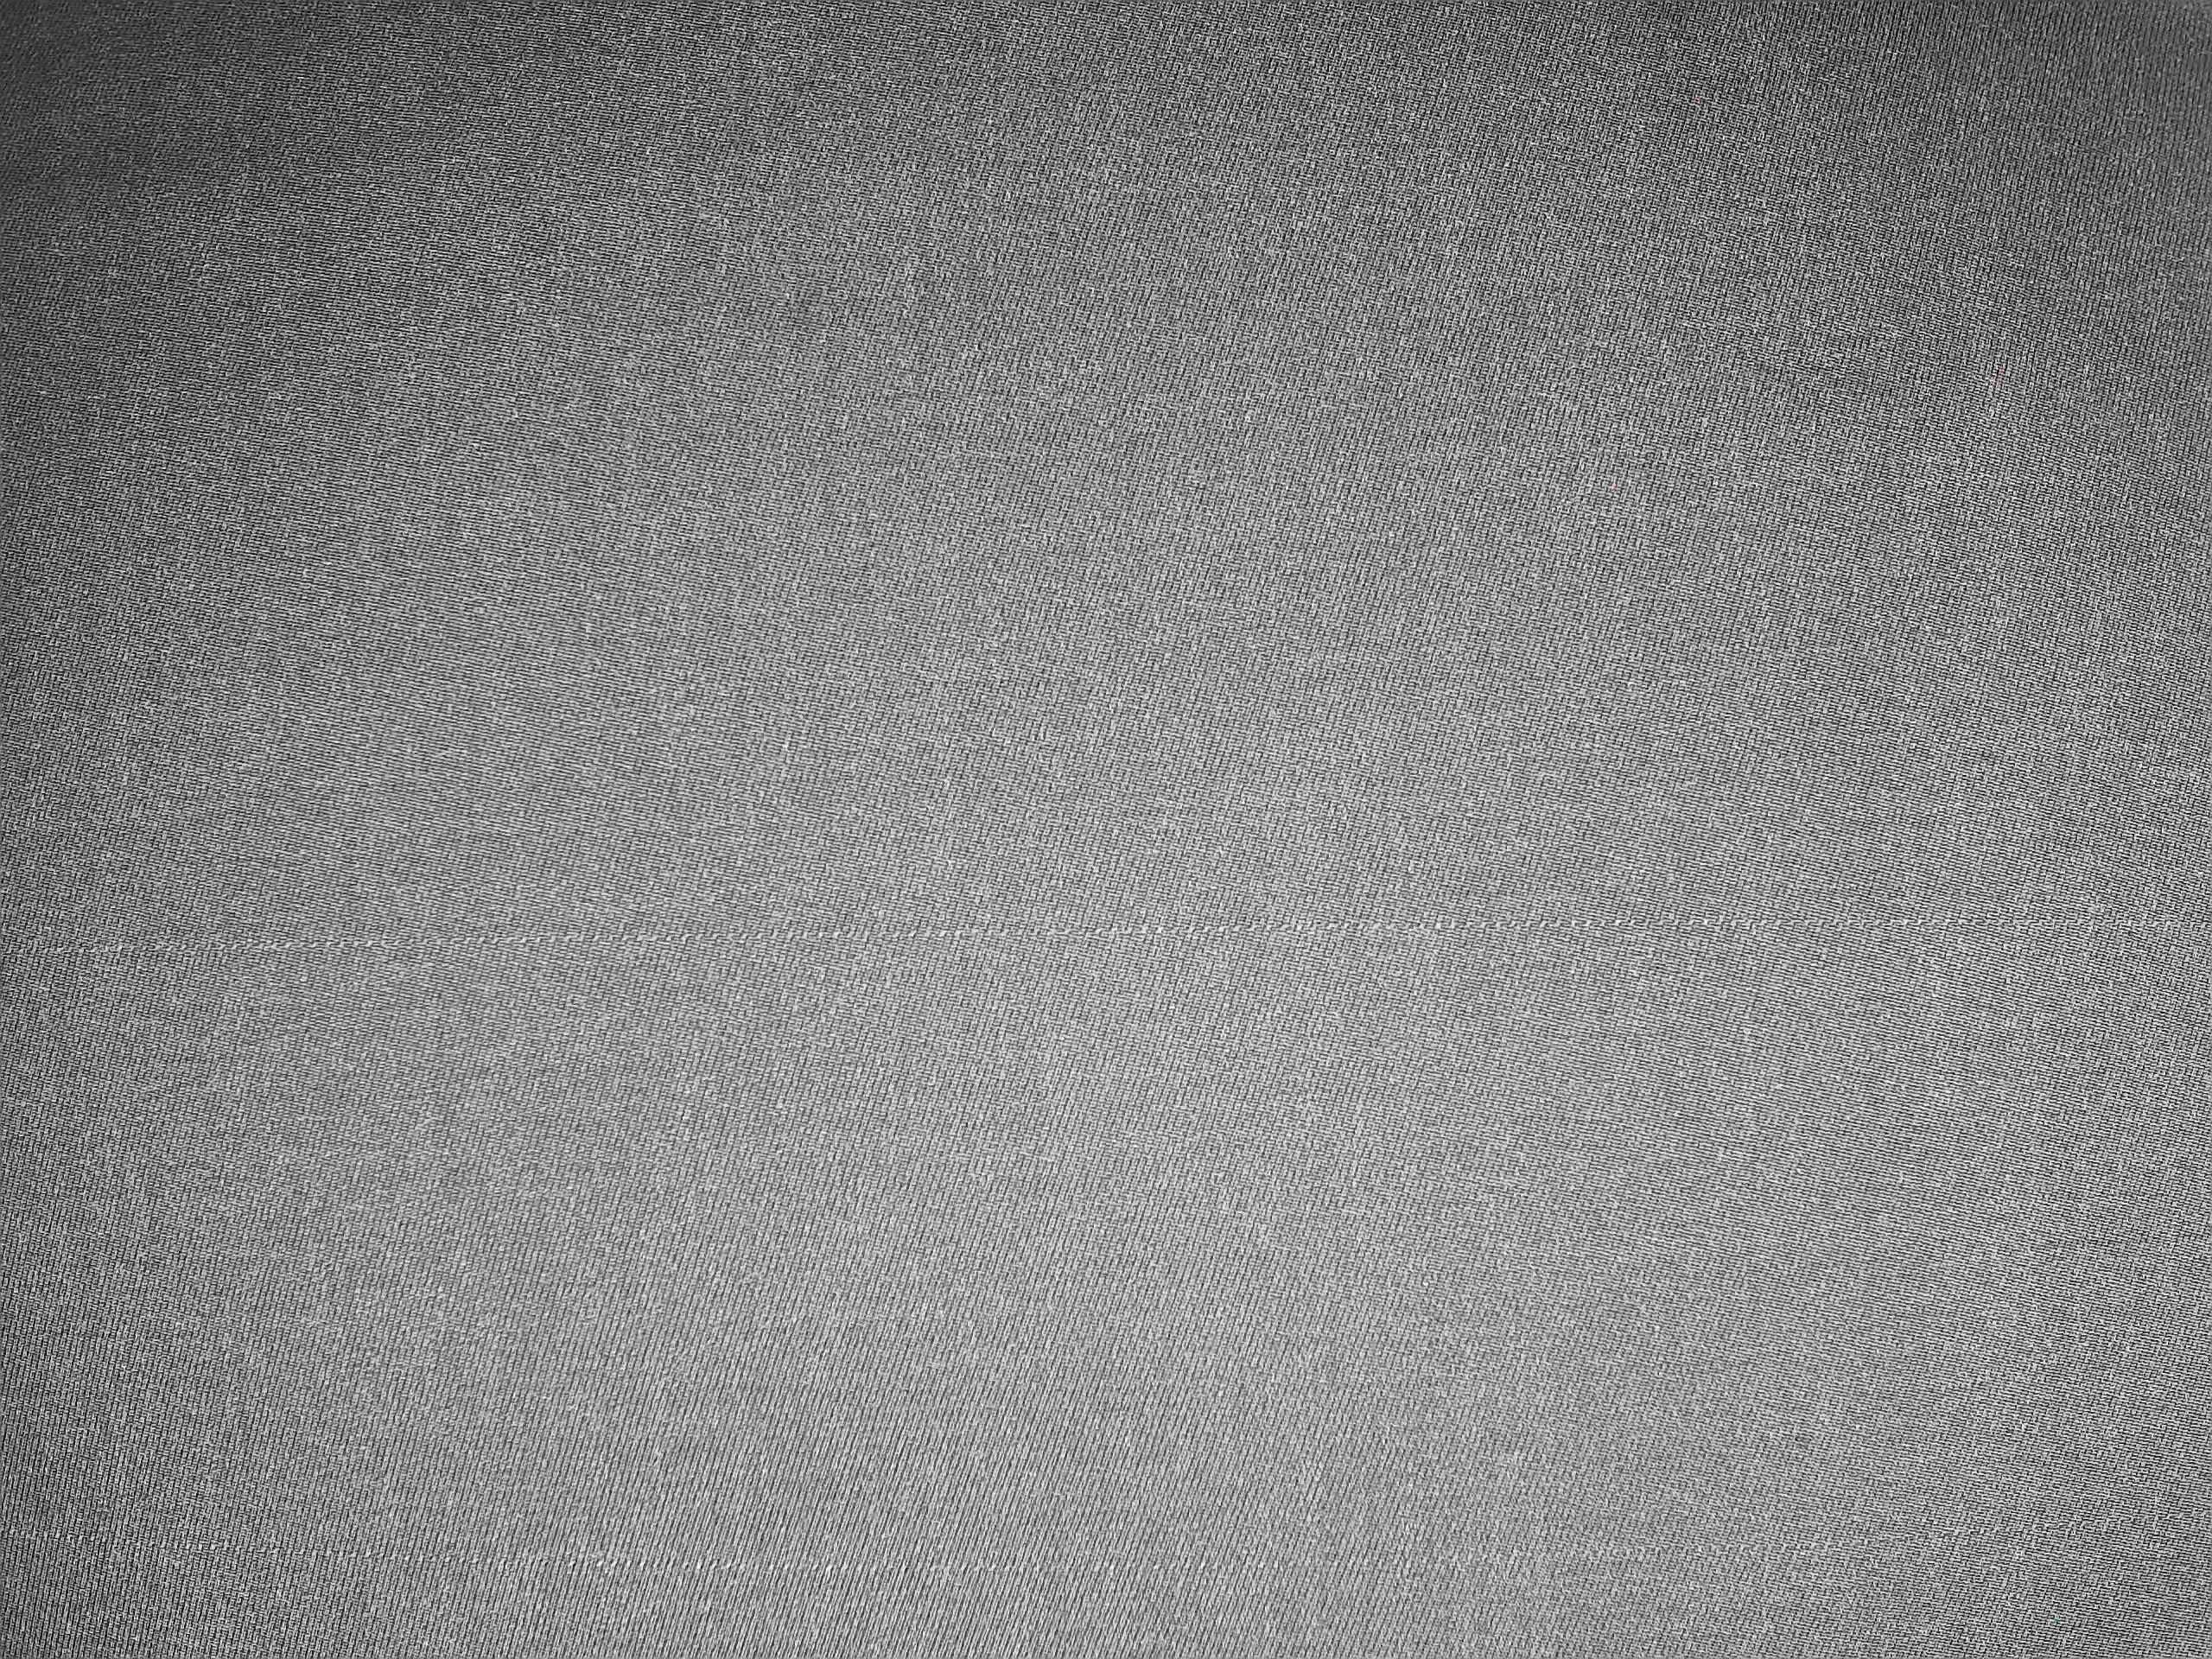jumps: (17, 904, 2203, 958)
